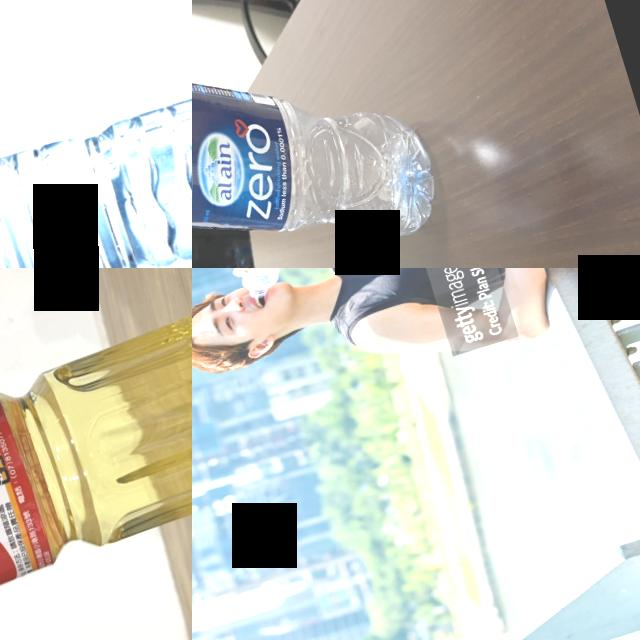bottle: (192, 0, 461, 268), (0, 275, 192, 640), (0, 55, 192, 268), (226, 268, 304, 302)
